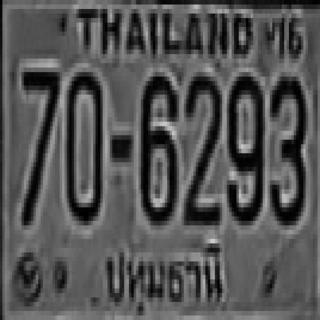N00: (65, 68, 100, 221)
N02: (183, 70, 221, 223)
N03: (267, 72, 306, 221)
N06: (138, 72, 177, 221)
N07: (20, 68, 59, 221)
N09: (224, 72, 263, 221)
P38: (101, 239, 227, 315)
